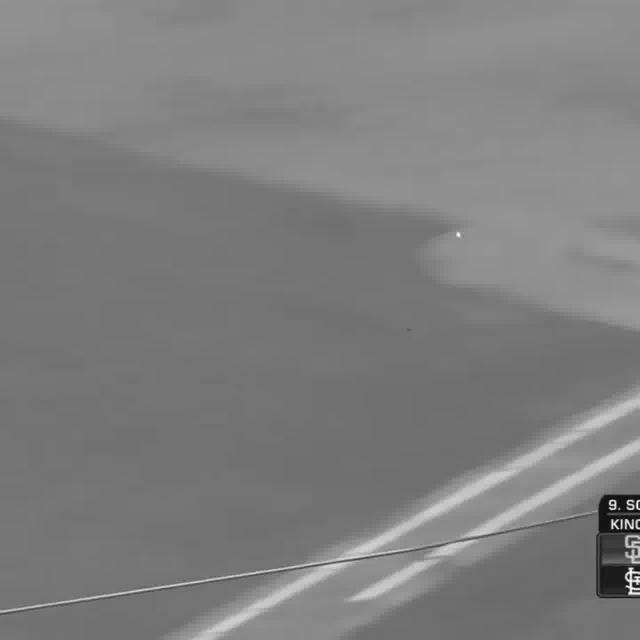baseball: (456, 232, 462, 240)
